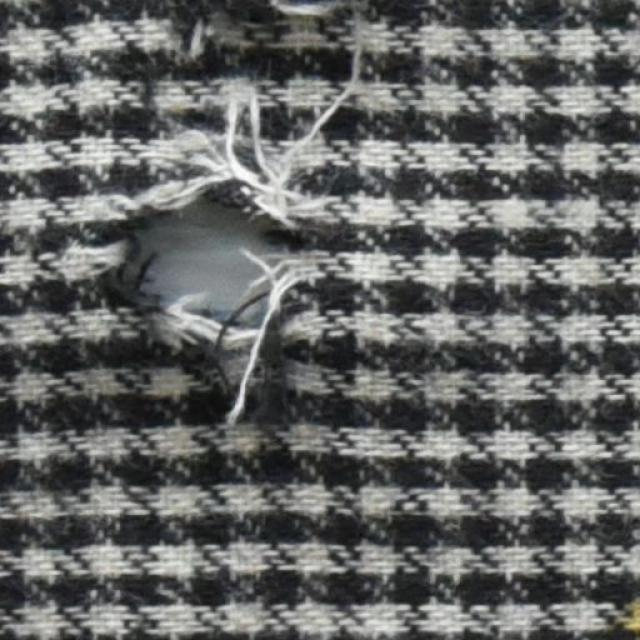Hole: (140, 209, 279, 310)
Snag: (142, 31, 368, 217), (226, 276, 300, 430)
